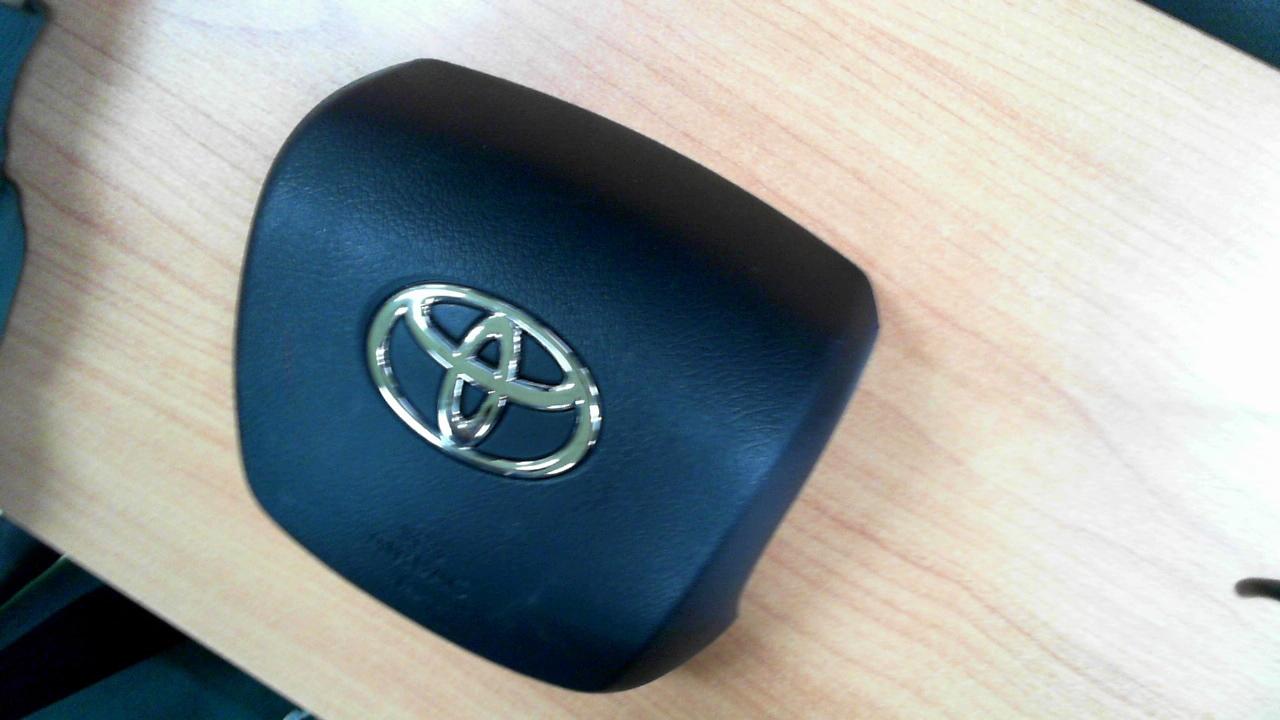Airbag: (232, 57, 881, 695)
Toyota: (367, 284, 602, 479)
